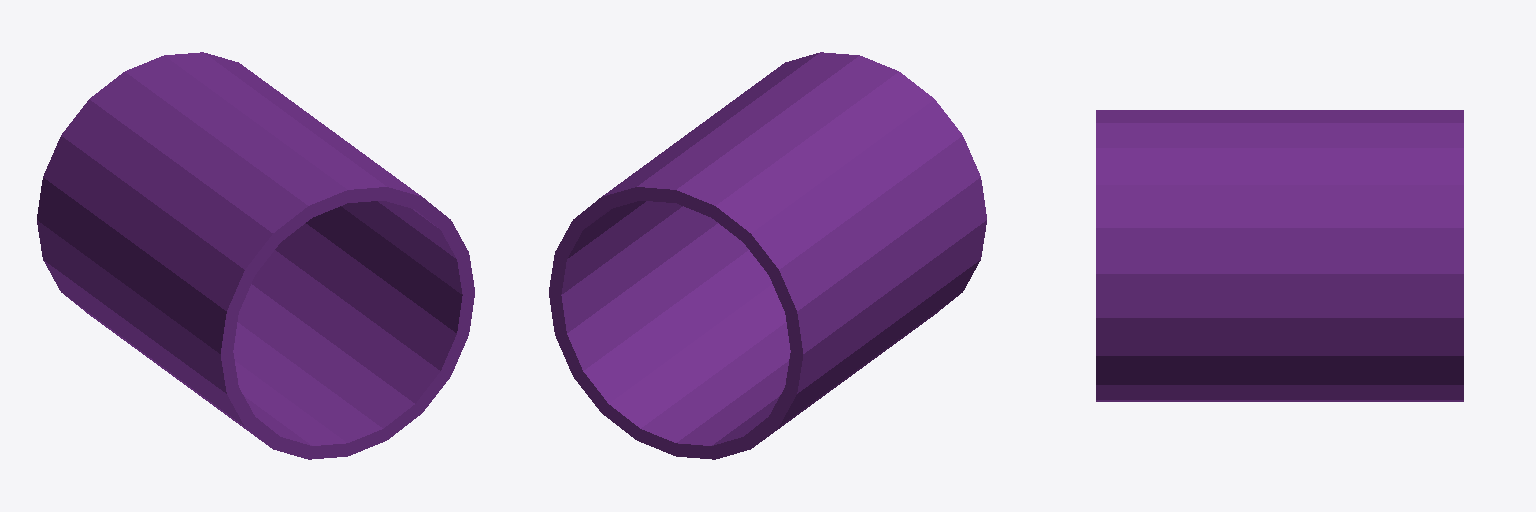
File: Hollow Cylinder.obj
The picture shows the model from 3 angles: view 1: azimuth 30°, elevation 25°; view 2: azimuth 150°, elevation 25°; view 3: azimuth 270°, elevation 25°; orthographic projection.
Parts seen in each view (by area): view 1: obj_0; view 2: obj_0; view 3: obj_0.
Boxes of the visible parts, x1=… form: obj_0: x1=37, y1=52, x2=474, y2=459; obj_0: x1=549, y1=52, x2=986, y2=459; obj_0: x1=1096, y1=110, x2=1463, y2=401.
Size of the model in its own units: 20 by 20 by 25.